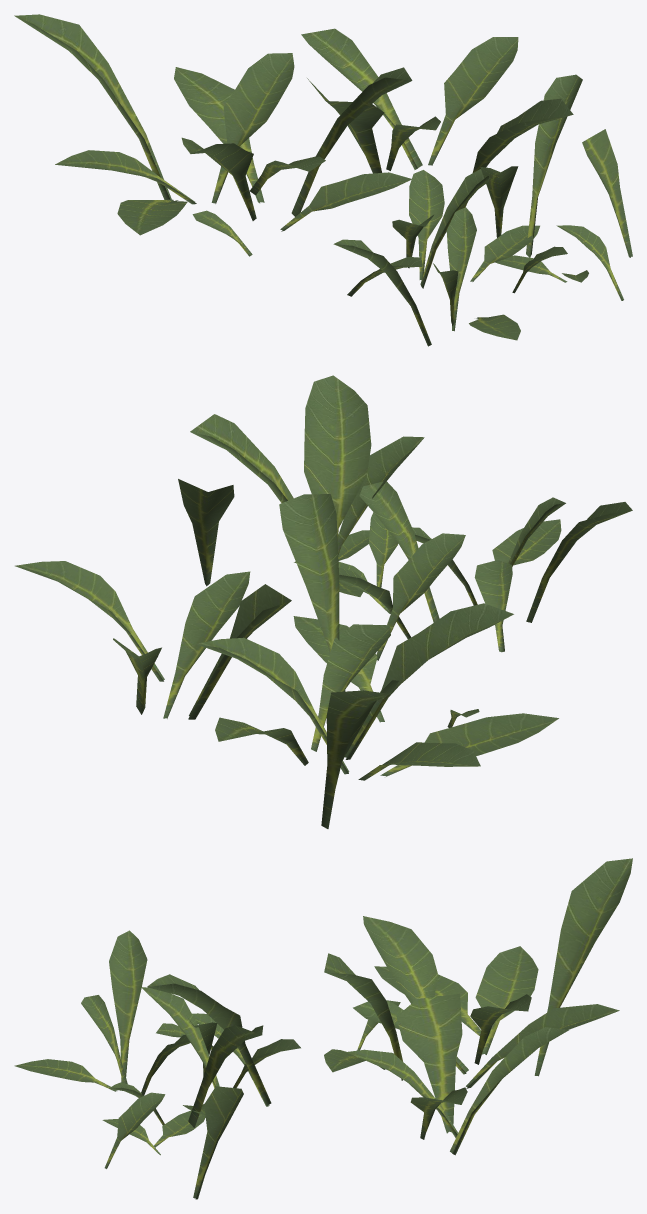
File: weed_01_001_lod1.gltf
3 views of the same model, one above another, from view 1: azimuth 30°, elevation 25°; view 2: azimuth 150°, elevation 25°; view 3: azimuth 270°, elevation 25° (orthographic). The views are drawn at different scales.
Visible parts, largest first — view 1: weed 01.001; view 2: weed 01.001; view 3: weed 01.001.
Part boxes in pixels (<box>): weed 01.001: <box>14,14,632,346</box>; weed 01.001: <box>15,375,632,828</box>; weed 01.001: <box>14,858,632,1199</box>.
Bounding box in the file's own units: 0.22 × 0.0953 × 0.2856.
